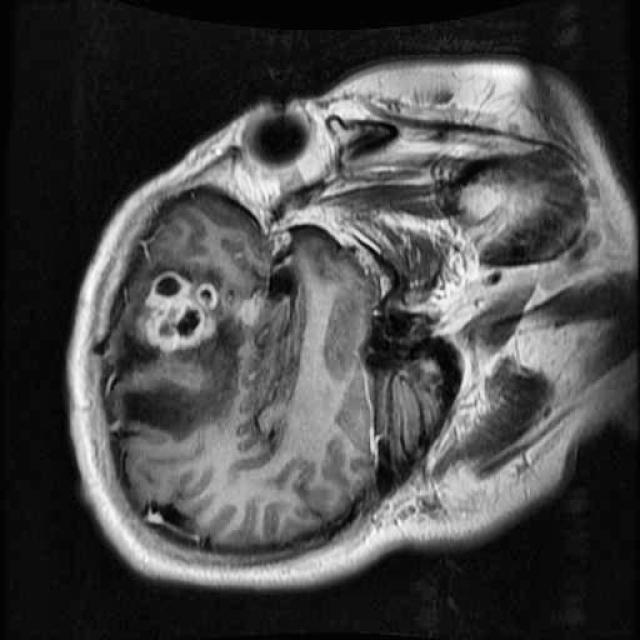Tumor: (128, 256, 227, 362)
